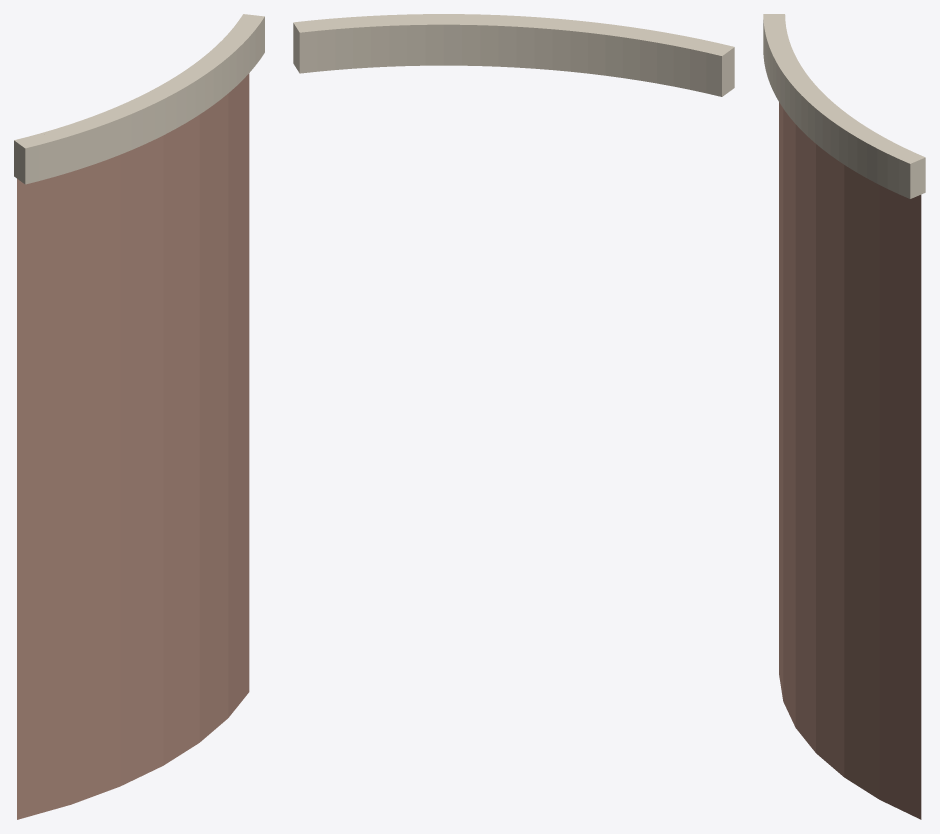
File: ArcWall_R2_A45.glb
The picture shows the model from 3 angles, left to right: view 1: azimuth 30°, elevation 25°; view 2: azimuth 150°, elevation 25°; view 3: azimuth 270°, elevation 25°; orthographic projection. The views are drawn at different scales.
Parts seen in each view (by area): view 1: PBK_Brick_ArcWall_R2_A45_Exterior_Surface.001, PBK_floor_band.048; view 2: PBK_floor_band.048; view 3: PBK_Brick_ArcWall_R2_A45_Exterior_Surface.001, PBK_floor_band.048.
Boxes of the visible parts, bbox=[...] form: PBK_Brick_ArcWall_R2_A45_Exterior_Surface.001: bbox=[17, 73, 249, 819]; PBK_floor_band.048: bbox=[14, 14, 264, 184]; PBK_floor_band.048: bbox=[293, 14, 734, 96]; PBK_Brick_ArcWall_R2_A45_Exterior_Surface.001: bbox=[779, 102, 921, 819]; PBK_floor_band.048: bbox=[763, 14, 925, 198].
Bounding box in the file's own units: 1.46 × 3 × 0.6685.
